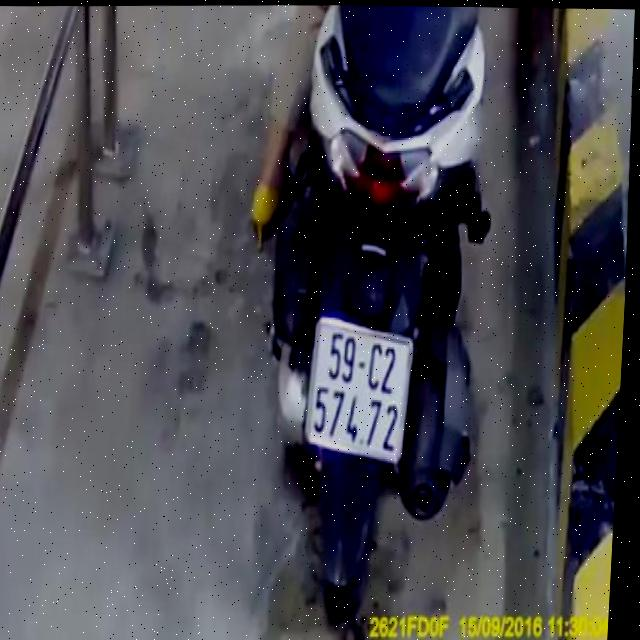motorcycle: (251, 4, 506, 631)
plate: (301, 311, 418, 466)
